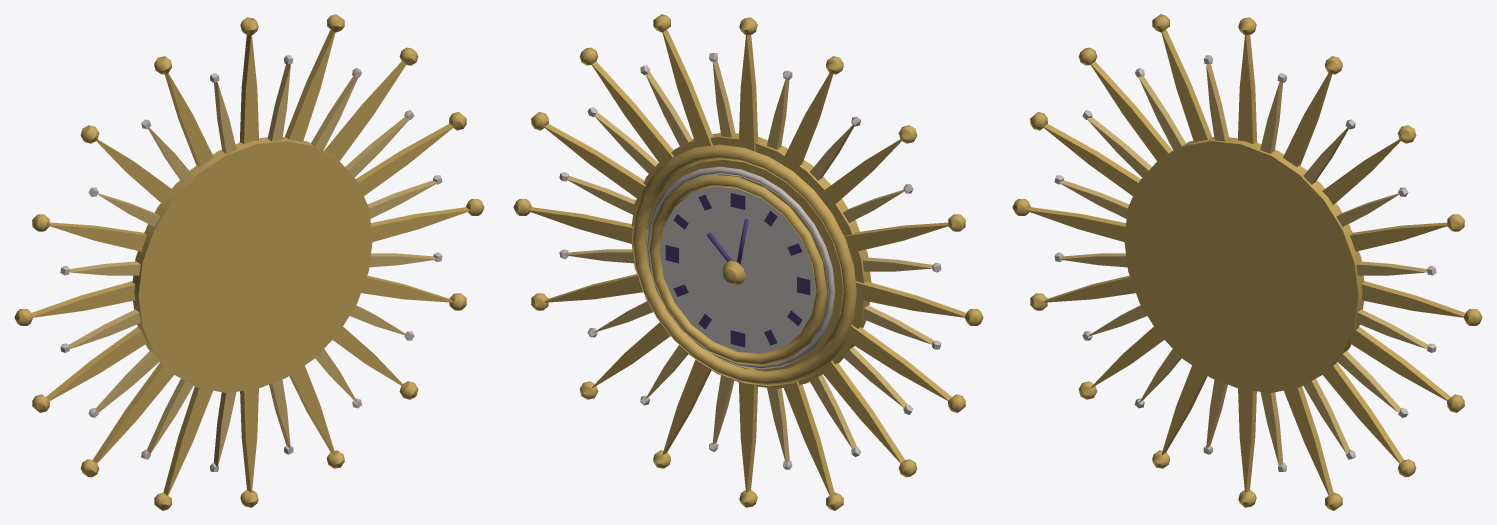
The model's file is wall_clock_sunburst.glb.
3 views of the same model, side by side, from view 1: azimuth 30°, elevation 25°; view 2: azimuth 150°, elevation 25°; view 3: azimuth 330°, elevation 25° (orthographic).
Parts seen in each view (by area): view 1: wall_clock_sunburst; view 2: wall_clock_sunburst; view 3: wall_clock_sunburst.
Boxes of the visible parts, x1,y1,x2,y2 form: wall_clock_sunburst: [14, 14, 484, 510]; wall_clock_sunburst: [513, 14, 983, 510]; wall_clock_sunburst: [1012, 14, 1482, 510].
Size of what is drawn, in the model's own units: 0.8 by 0.8 by 0.08.
